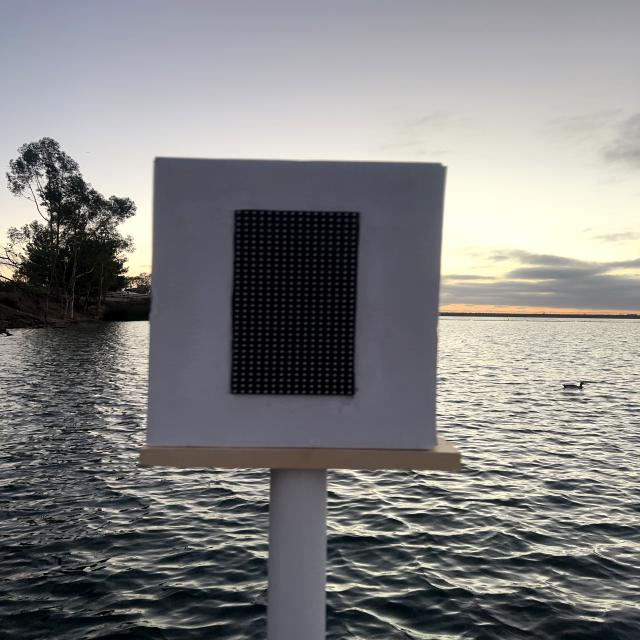led: (210, 194, 414, 408)
